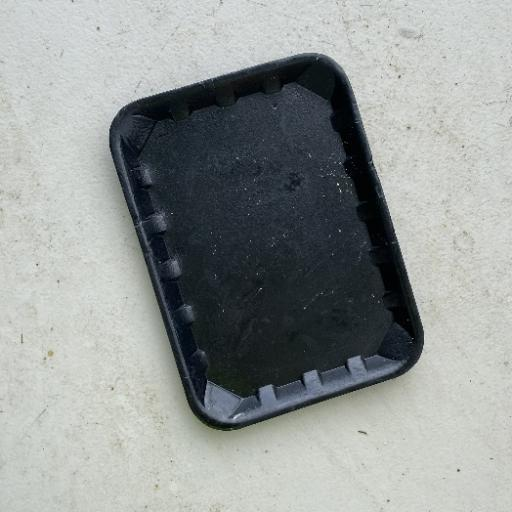Plastic: (106, 50, 426, 432)
